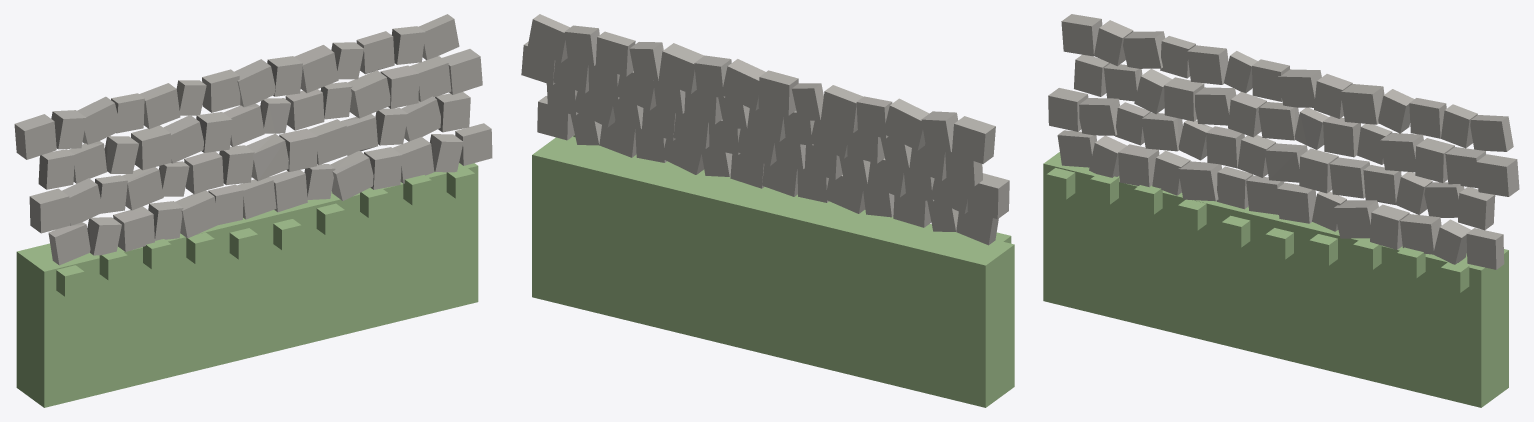
File: r-106-seekonk-granite-riprap.glb
3 views of the same model, side by side, from view 1: azimuth 30°, elevation 25°; view 2: azimuth 150°, elevation 25°; view 3: azimuth 330°, elevation 25° (orthographic). The views are drawn at different scales.
Parts seen in each view (by area): view 1: riprap, marsh-grass; view 2: marsh-grass, riprap; view 3: riprap, marsh-grass.
Boxes of the visible parts, x1=… form: riprap: x1=14, y1=14, x2=492, y2=265; marsh-grass: x1=16, y1=163, x2=478, y2=407; marsh-grass: x1=532, y1=135, x2=1014, y2=407; riprap: x1=521, y1=14, x2=1009, y2=245; riprap: x1=1048, y1=14, x2=1519, y2=269; marsh-grass: x1=1043, y1=152, x2=1508, y2=407.
Size of the model in its own units: 20778 by 11815 by 3000.
